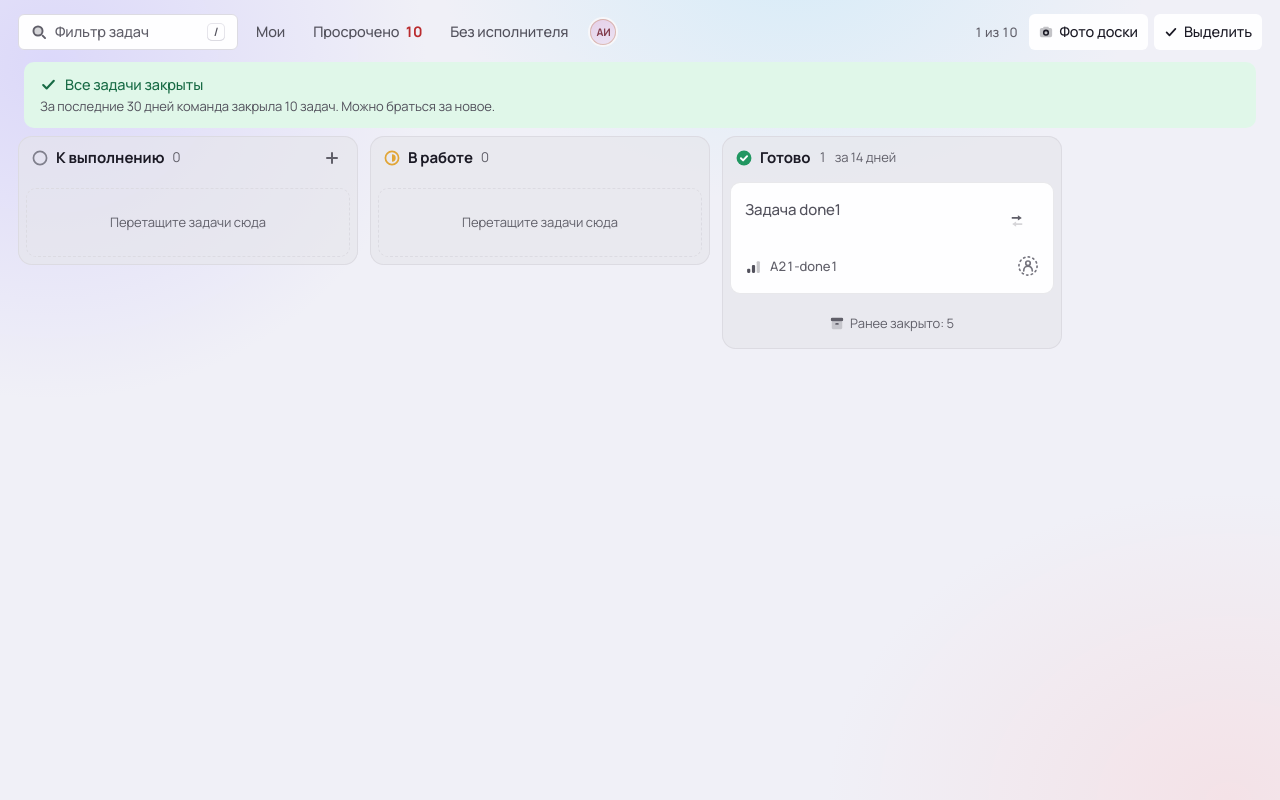
Test case: Board — характеризующие тесты (ТЗ 5.12 c, до переписывания JSX) › 8b. «Ранее закрыто» снимает окно и перечитывает колонку «Готово» без closed-фильтра
This screenshot has width=1280, height=800.
Click the button "Ранее закрыто: 5" at (892, 323), box left=730, top=306, right=1054, bottom=341
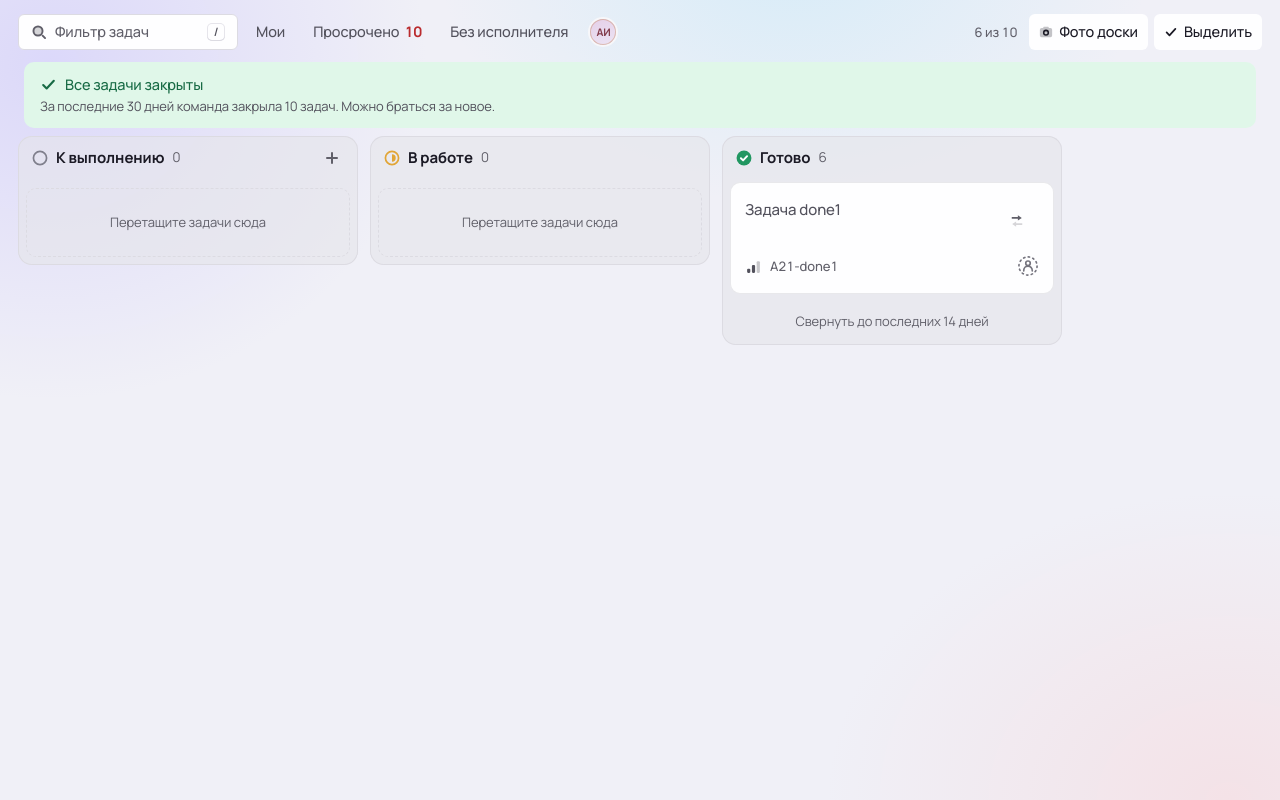
Result: the button "Свернуть до последних 14 дней" is shown at left=730, top=306, right=1054, bottom=337
